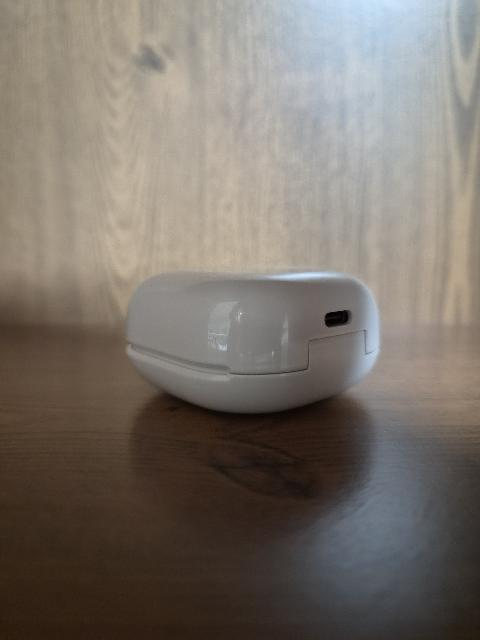earphone_case: (125, 271, 380, 413)
